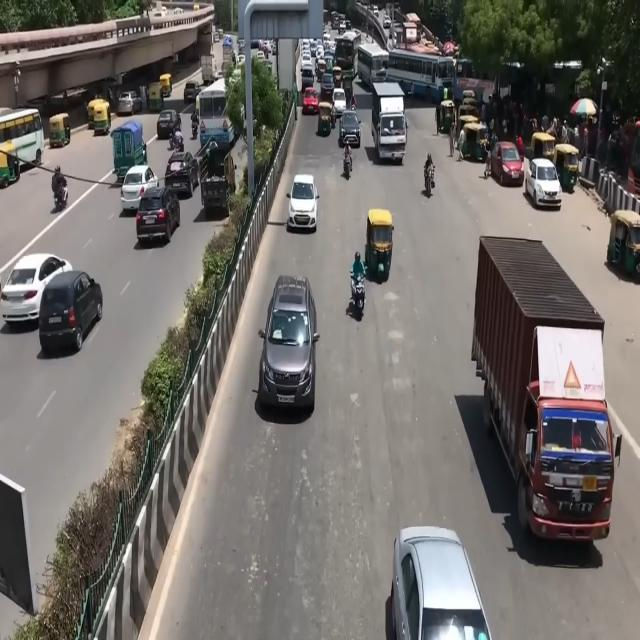auto: (606, 209, 640, 276), (365, 209, 394, 280), (552, 143, 580, 192), (460, 121, 488, 164), (88, 98, 111, 136), (48, 112, 72, 148), (317, 100, 334, 137), (148, 82, 165, 112), (159, 73, 172, 100)
bike-auto: (350, 269, 366, 313), (53, 178, 68, 210), (424, 163, 435, 198), (169, 129, 184, 152), (343, 148, 353, 178)
